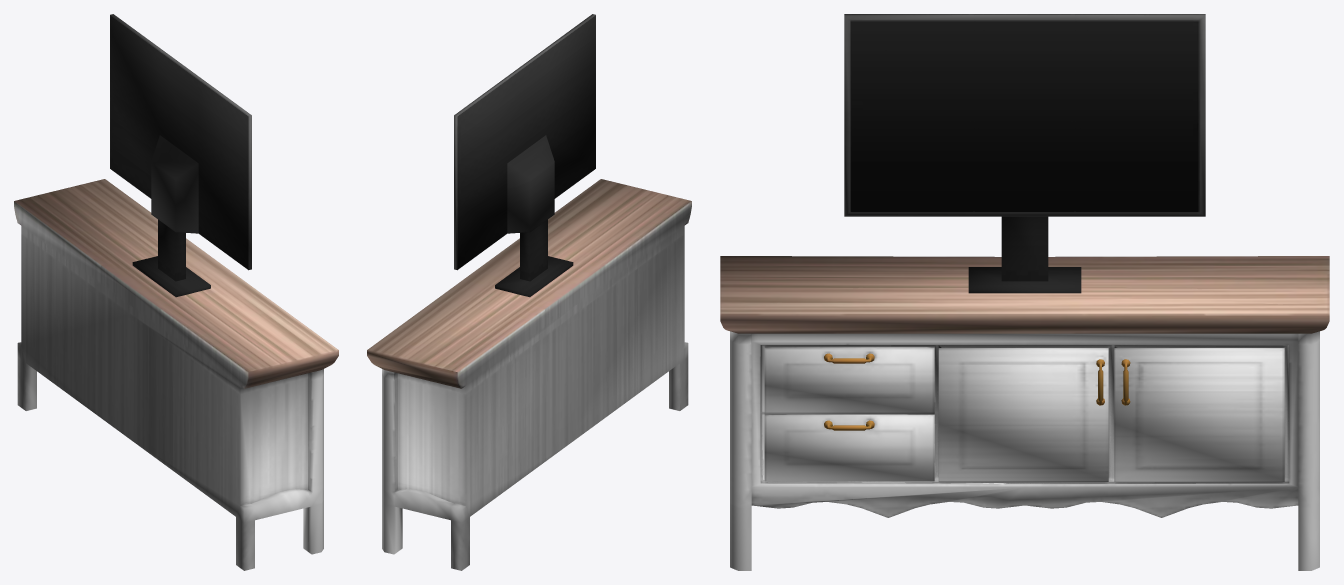
The model's file is tv_stand01.glb.
3 renders of one model, left to right at view 1: azimuth 30°, elevation 25°; view 2: azimuth 150°, elevation 25°; view 3: azimuth 270°, elevation 25°, orthographic. The views are drawn at different scales.
Parts seen in each view (by area): view 1: tv_stand01; view 2: tv_stand01; view 3: tv_stand01.
Part boxes in pixels (x1,y1,x2,y2): tv_stand01: (14,14,338,570); tv_stand01: (367,14,691,570); tv_stand01: (720,14,1329,570).
Bounding box in the file's own units: 0.2618 × 1.13 × 1.17.
Materials: 1 (1 with a texture image).
